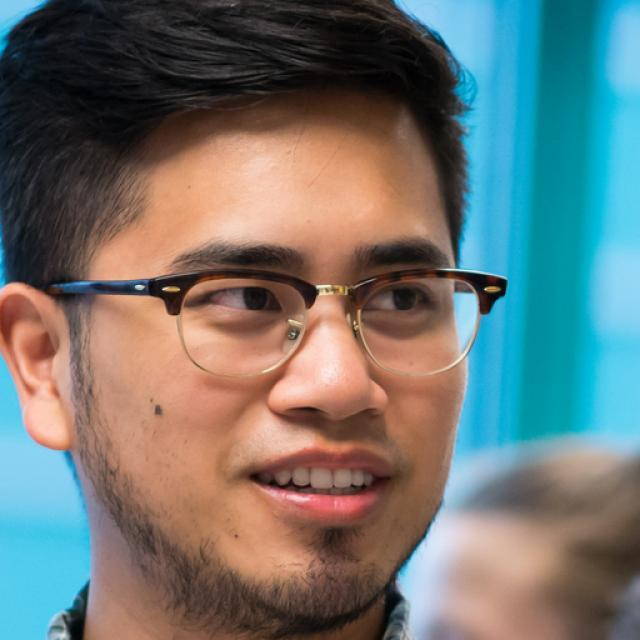surprise: (82, 102, 476, 634)
